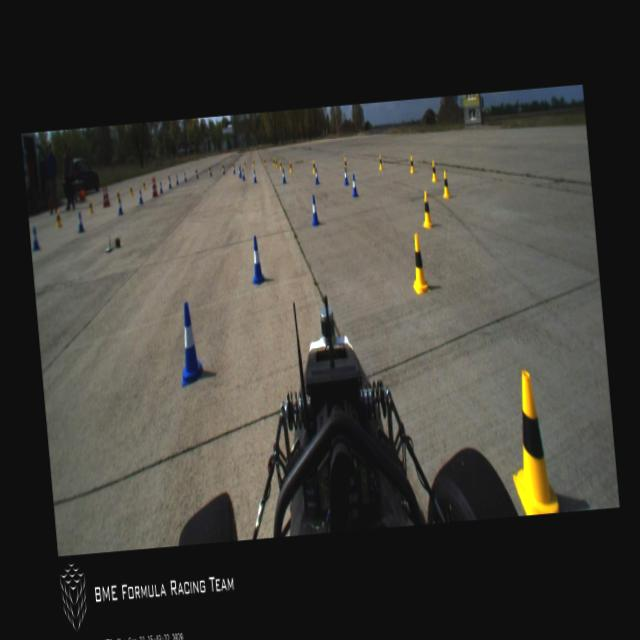blue_cone: (174, 300, 203, 386), (248, 234, 264, 284), (309, 193, 319, 224), (350, 174, 358, 196), (31, 228, 39, 250), (76, 212, 84, 232), (342, 168, 348, 185), (117, 198, 123, 214), (281, 168, 286, 184), (314, 168, 318, 185), (138, 190, 143, 203), (252, 170, 255, 182), (159, 182, 162, 193), (168, 178, 171, 189), (238, 168, 241, 177), (175, 175, 178, 184), (183, 173, 186, 182), (232, 164, 235, 173), (242, 167, 244, 180), (195, 170, 198, 178), (222, 165, 224, 174), (209, 168, 211, 176)
large_orange_cone: (104, 184, 110, 207), (150, 176, 155, 196), (153, 177, 158, 197), (102, 187, 106, 207)
yellow_cone: (503, 366, 559, 516), (408, 232, 430, 295), (419, 190, 432, 228), (440, 170, 450, 198), (430, 160, 437, 182), (54, 208, 61, 228), (343, 155, 348, 171), (410, 156, 414, 173), (378, 153, 382, 170), (288, 160, 292, 173), (88, 200, 92, 213), (116, 189, 120, 200), (274, 157, 278, 166), (142, 182, 146, 190), (312, 159, 314, 173), (279, 160, 282, 169), (130, 184, 132, 196), (243, 162, 246, 168), (272, 158, 274, 166), (264, 157, 266, 165), (252, 158, 254, 166)
